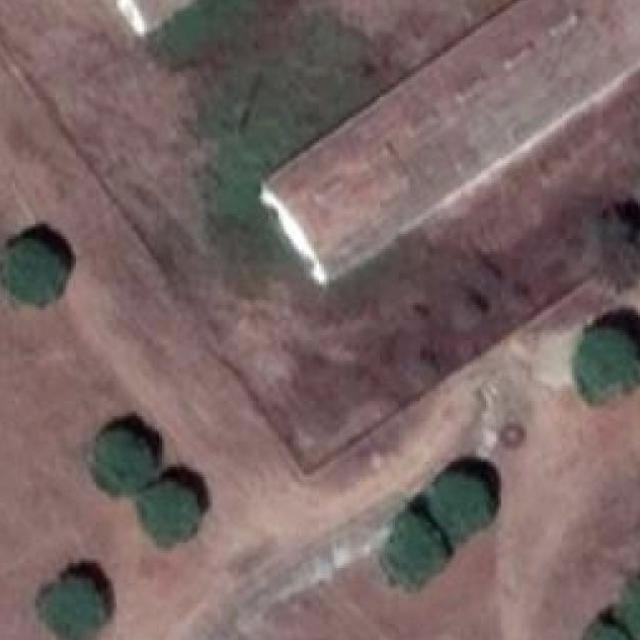Tree: (133, 477, 202, 550), (0, 232, 66, 306), (578, 206, 640, 282), (36, 578, 110, 640), (376, 516, 441, 584), (574, 327, 635, 399), (90, 424, 152, 493), (431, 470, 492, 537), (617, 578, 640, 636), (587, 613, 630, 640)
